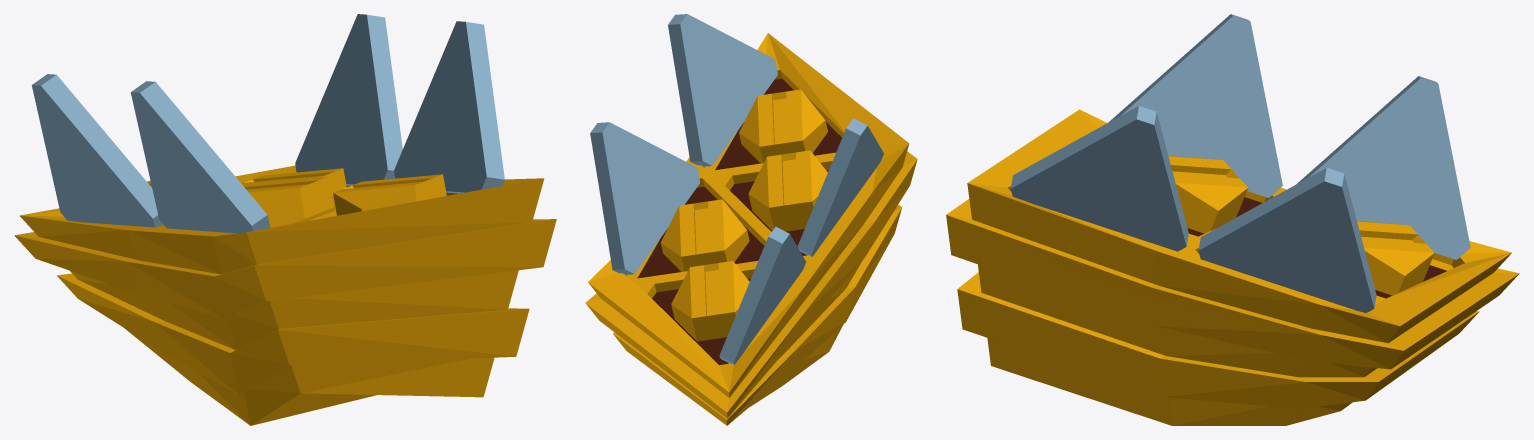
File: GEAR_FIREFLY.fbx
3 renders of one model, left to right at view 1: azimuth 30°, elevation 25°; view 2: azimuth 150°, elevation 25°; view 3: azimuth 270°, elevation 25°, orthographic. The views are drawn at different scales.
Parts seen in each view (by area): view 1: GEAR_MISSILEPOD.001_Cylinder.003; view 2: GEAR_MISSILEPOD.001_Cylinder.003; view 3: GEAR_MISSILEPOD.001_Cylinder.003.
Part boxes in pixels (x1,y1,x2,y2): GEAR_MISSILEPOD.001_Cylinder.003: [14, 14, 556, 425]; GEAR_MISSILEPOD.001_Cylinder.003: [585, 14, 917, 425]; GEAR_MISSILEPOD.001_Cylinder.003: [946, 14, 1519, 425].
Bounding box in the file's own units: 370 × 442 × 657.
